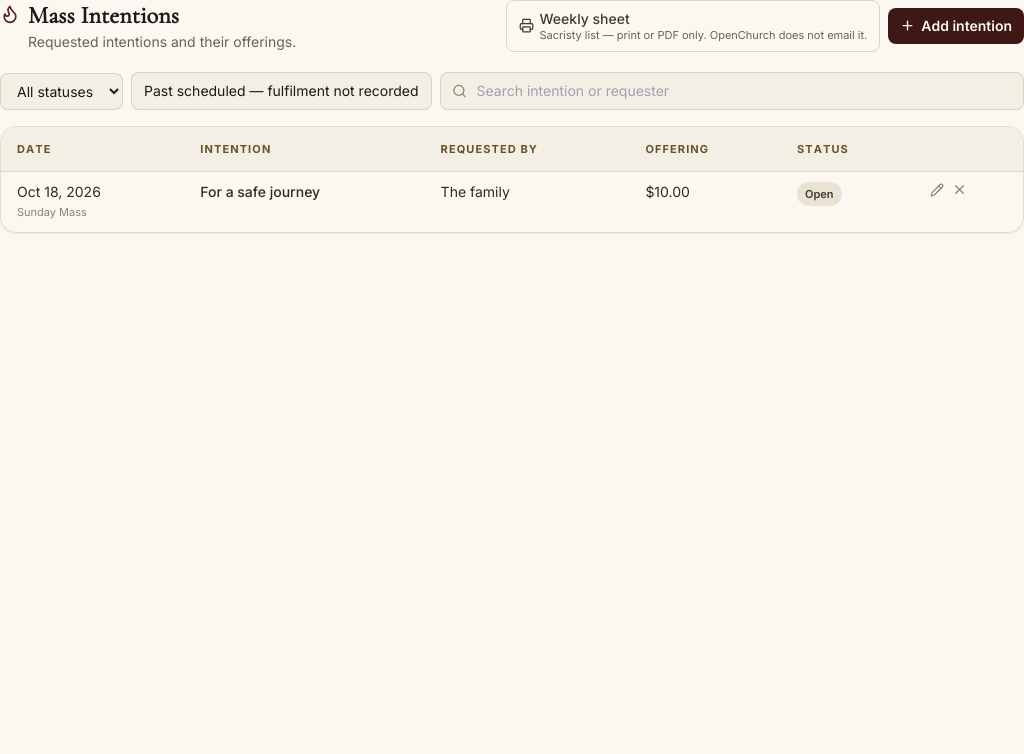
SP-063 fulfilment confirmation › 409 date_conflict shows the refusal and no success toast
Step 1. Click the button named "Edit intention" → [937, 190], box [930,182,944,196]
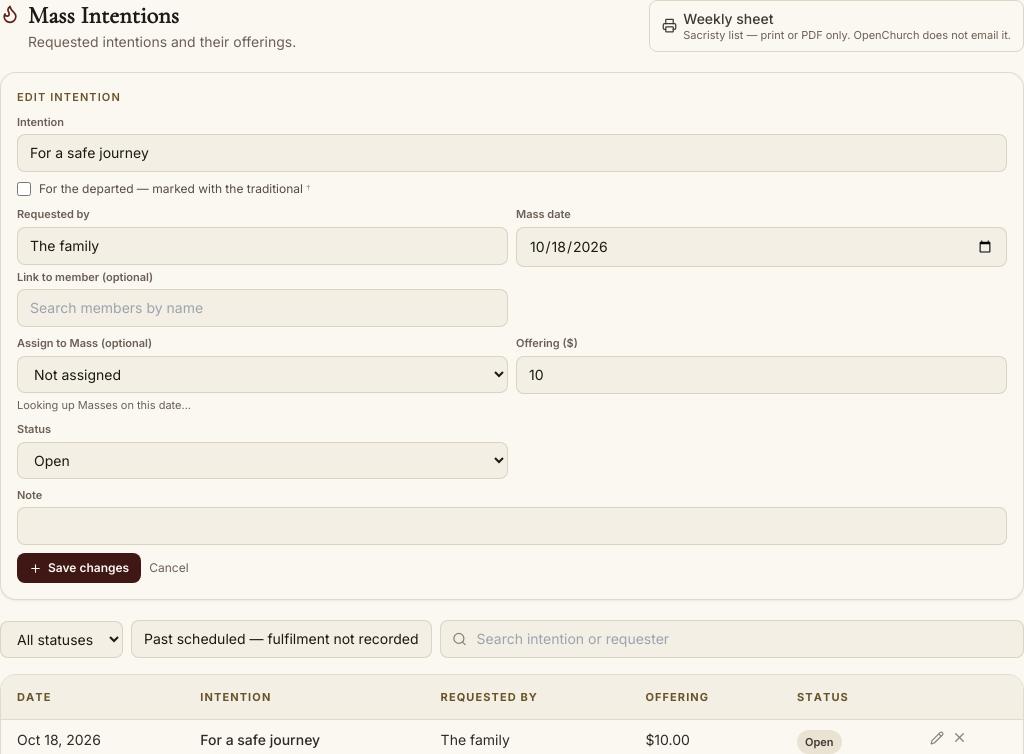
Step 2. Select "Fulfilled" in the dropdown labelled "Status" → [262, 460], box [17,442,508,478]
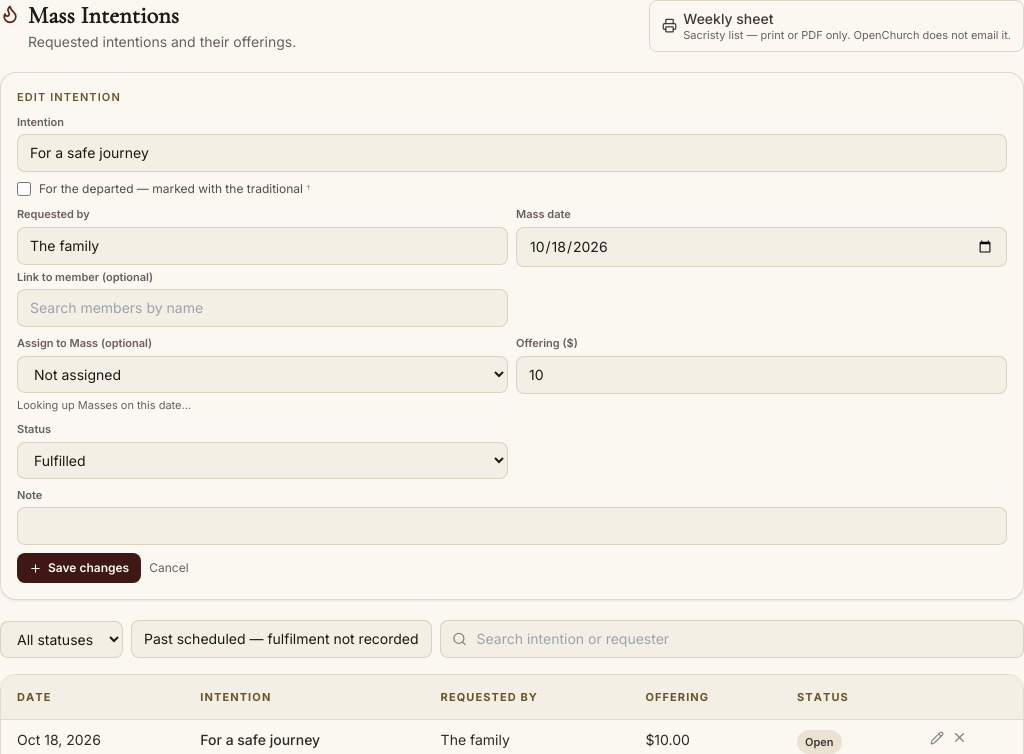
Step 3. Click the button "Save changes" → [79, 568], box [17,553,141,583]
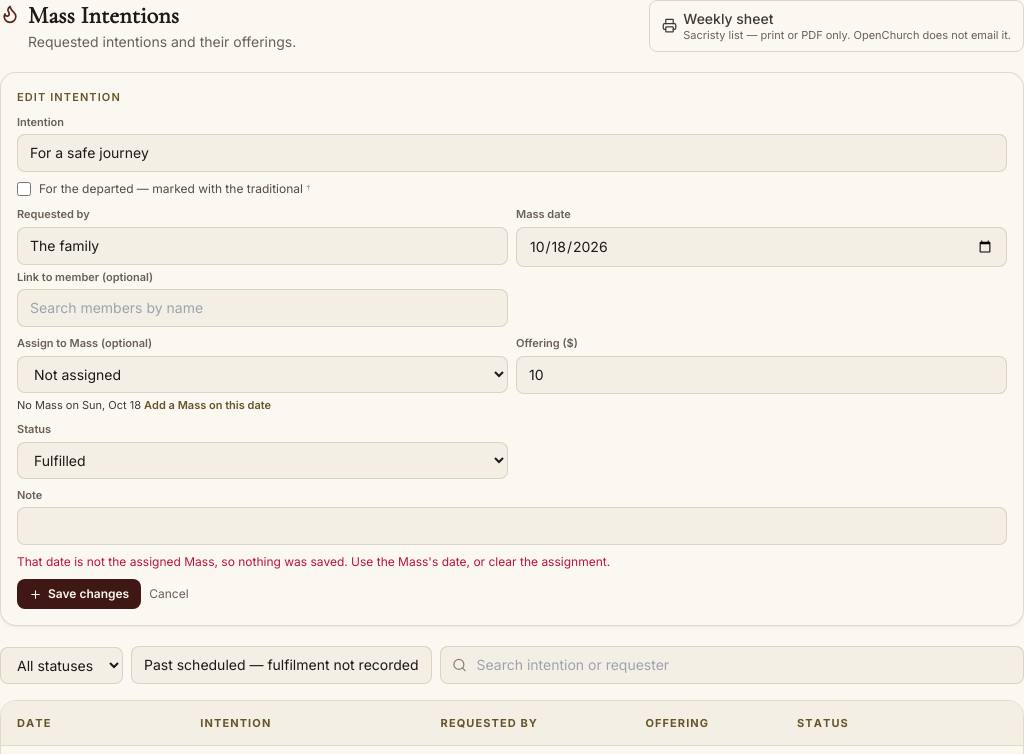
Expected: the text "That date is not the assigned Mass, so nothing was saved. Use the Mass's date, or clear the assignment." is shown, [17,554,610,569]
